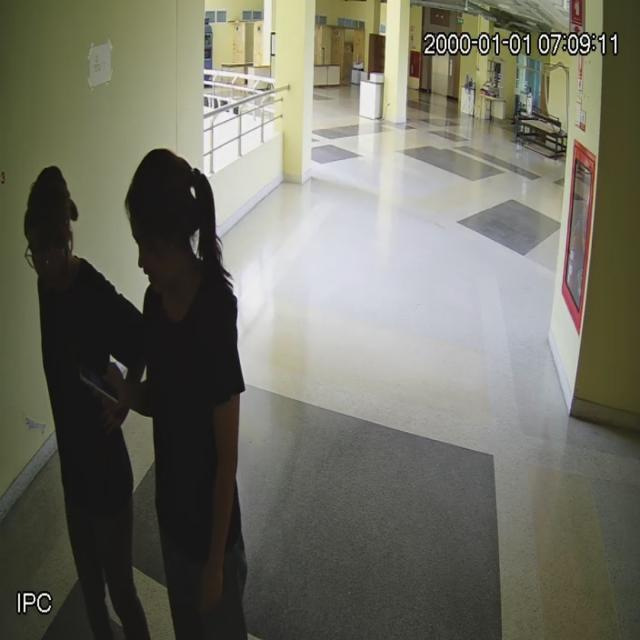normal: (124, 138, 257, 640), (23, 154, 154, 640)
